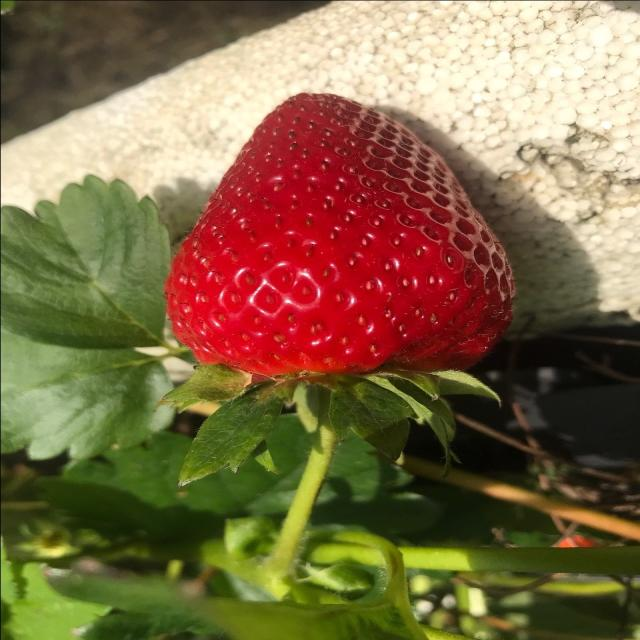strawberry: (106, 70, 570, 469)
